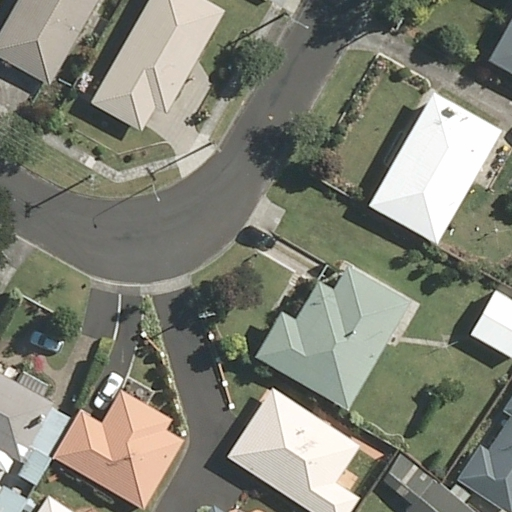DT: (83, 168, 104, 197)
